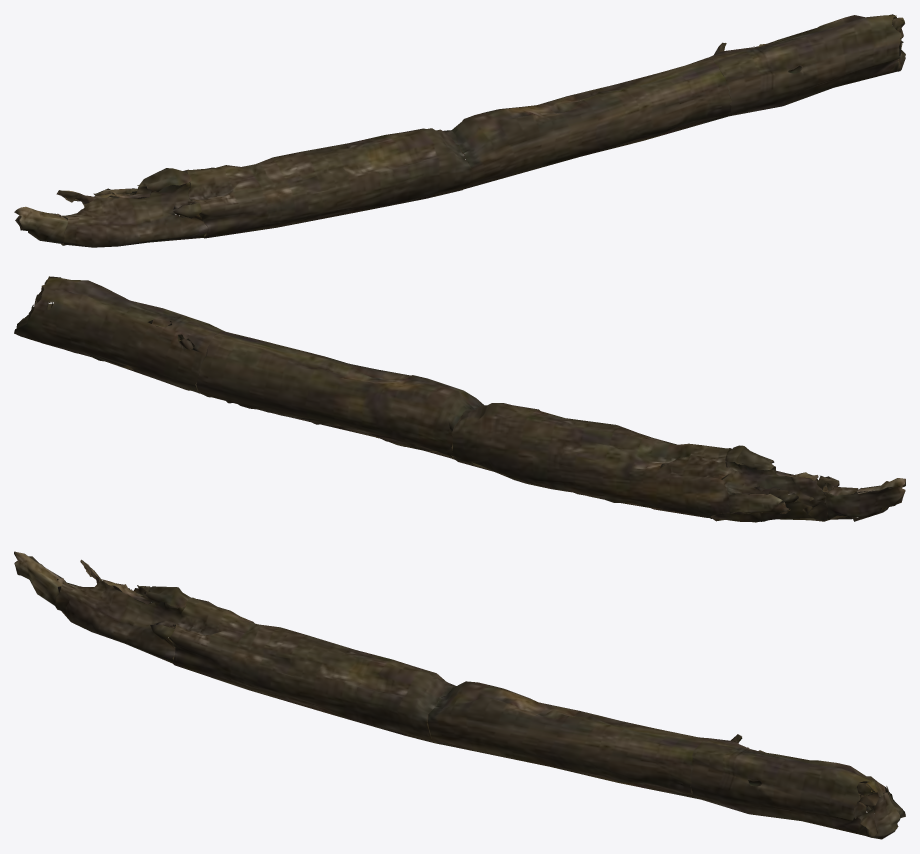
Rendered from ph_dead_tree_trunk.glb.
The picture shows the model from 3 angles, top to bottom: view 1: azimuth 30°, elevation 25°; view 2: azimuth 150°, elevation 25°; view 3: azimuth 330°, elevation 25°; orthographic projection.
Visible parts, largest first — view 1: dead_tree_trunk; view 2: dead_tree_trunk; view 3: dead_tree_trunk.
Part boxes in pixels (x1,y1,x2,y2): dead_tree_trunk: (14,14,905,247); dead_tree_trunk: (14,276,905,522); dead_tree_trunk: (14,551,905,839).
Bounding box in the file's own units: 3.06 × 0.2857 × 0.2768.
Materials: 1 (1 with a texture image).
